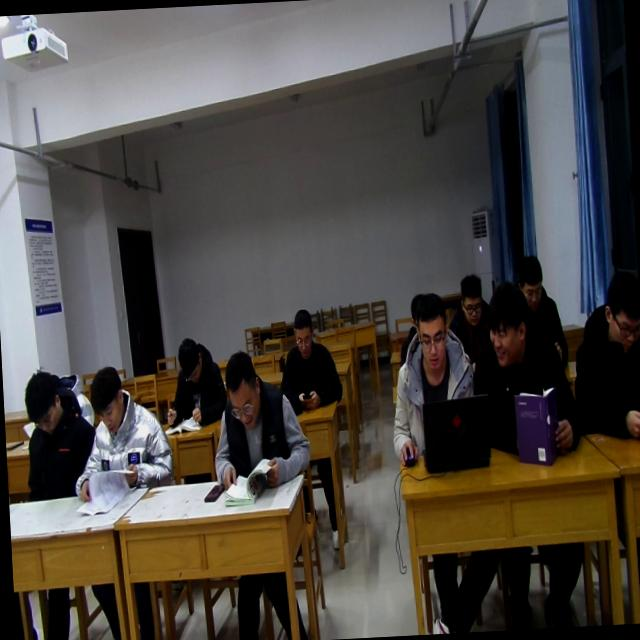down: (410, 289, 456, 380), (220, 346, 268, 432), (599, 264, 640, 351), (86, 361, 132, 436), (19, 368, 67, 438), (455, 270, 488, 333), (512, 253, 546, 308), (288, 304, 317, 362), (174, 333, 204, 386)
sit: (465, 279, 583, 462), (386, 290, 479, 472), (208, 344, 313, 494), (66, 361, 176, 504), (570, 270, 640, 443), (18, 366, 96, 502), (275, 304, 345, 413), (512, 251, 570, 369), (160, 332, 228, 428), (444, 272, 496, 388)
